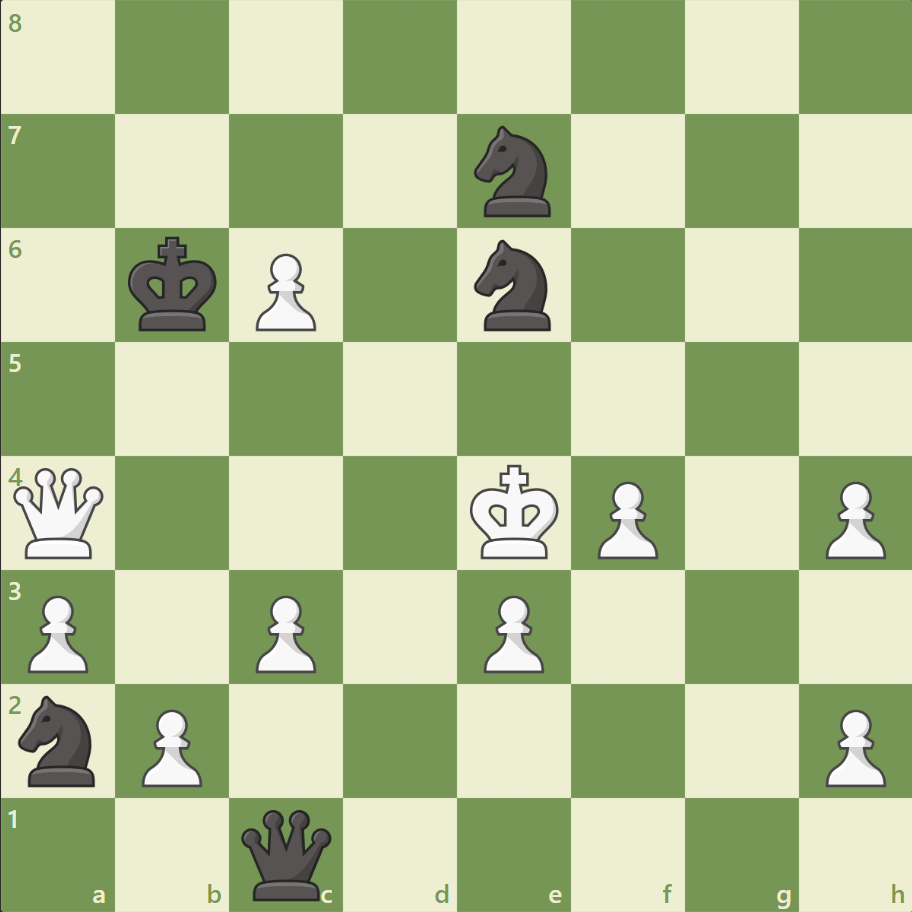K: (465, 458, 565, 566)
P: (247, 246, 322, 337), (20, 586, 95, 677), (247, 586, 322, 677), (474, 586, 549, 677), (133, 700, 208, 791), (588, 473, 662, 564), (815, 473, 889, 564), (815, 700, 889, 791)
Q: (10, 463, 109, 562)
k: (124, 231, 224, 339)
n: (465, 234, 562, 337), (11, 688, 108, 791), (465, 121, 562, 223)
q: (237, 804, 336, 903)
